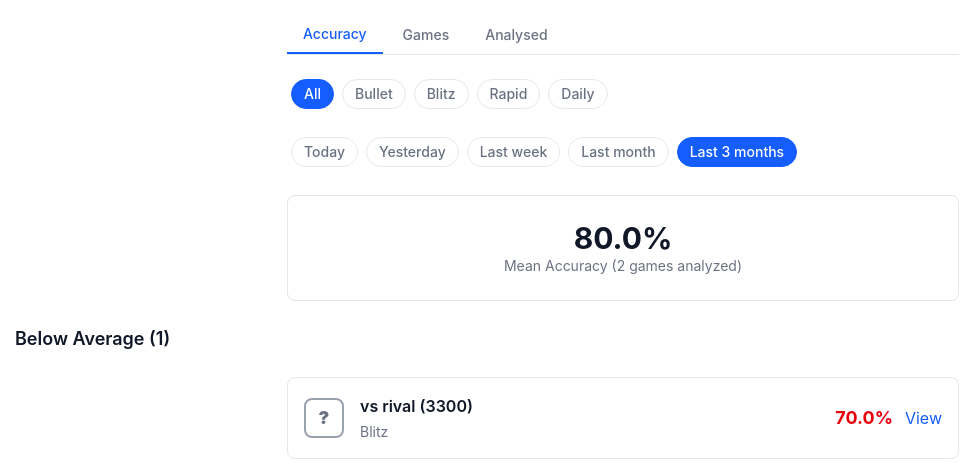
Scenario: PlayerPage › persists filter across tab switches
The width and height of the screenshot is (976, 476).
Expected: the text "Mean Accuracy (2 games analyzed)" is shown, [504, 257, 742, 274]
Click the button "Bullet". click: (374, 94)
box: [342, 79, 406, 109]
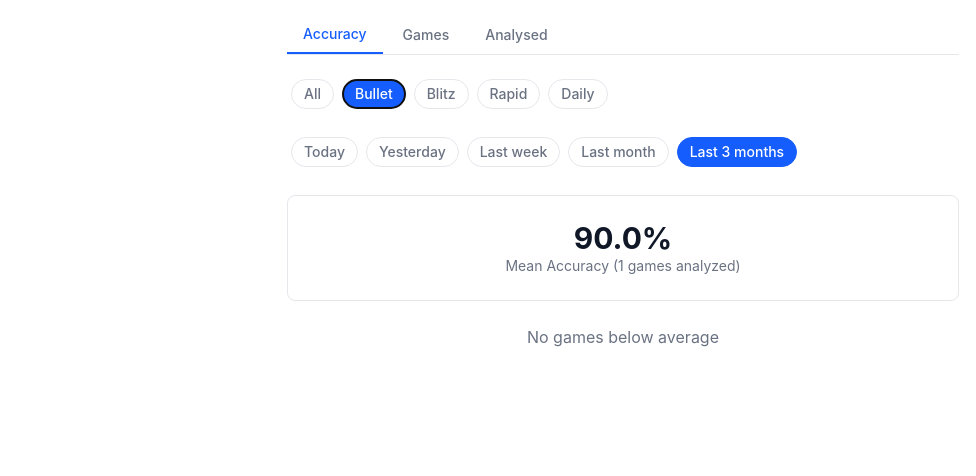
Result: the text "Mean Accuracy (1 games analyzed)" is shown at [505, 257, 741, 274]
# Switch to games tab — filter should still be bullet
Click the tab "Games". click: (426, 35)
box: [387, 16, 465, 54]
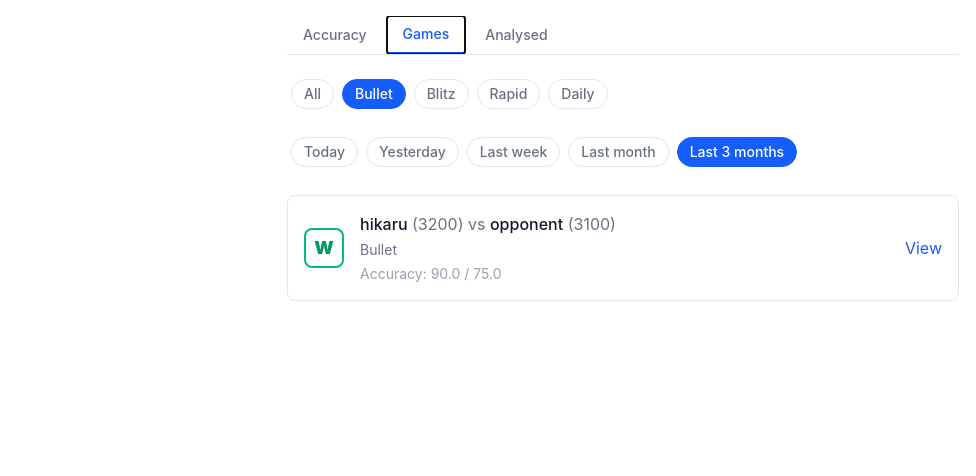
Result: the number of list items is 1 at [287, 195, 959, 301]
Result: the text "opponent" is shown at [490, 214, 563, 234]
